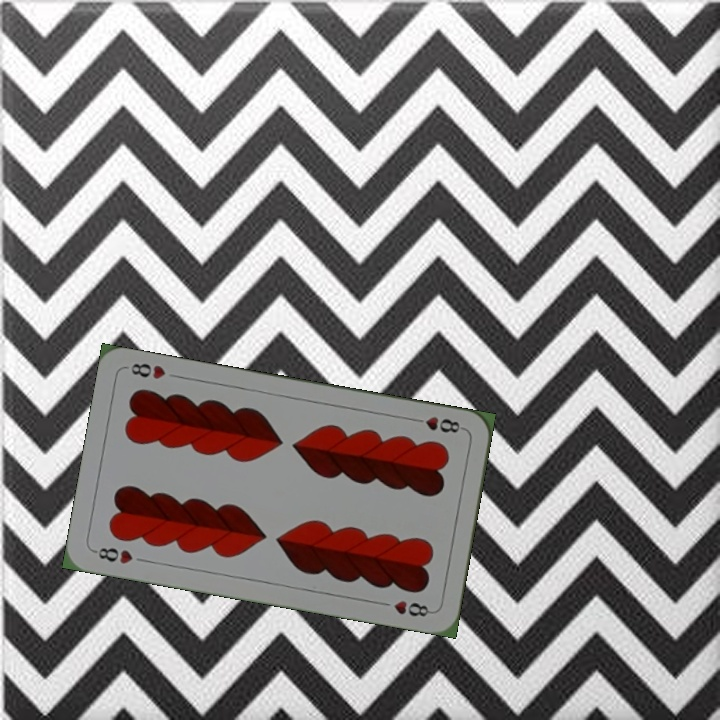H8: (408, 412, 467, 436), (90, 543, 136, 567)
